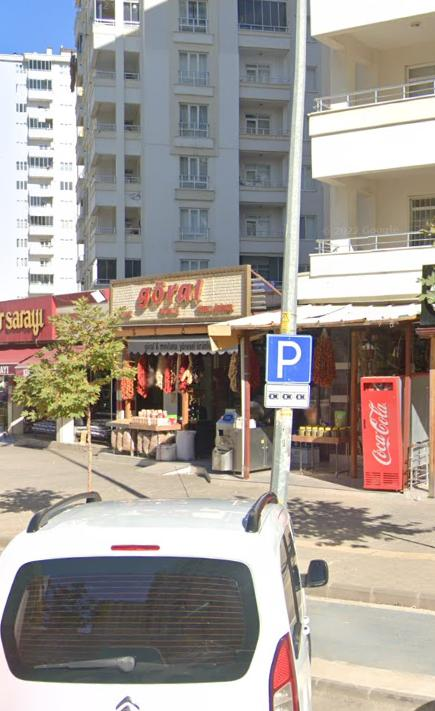park: (269, 340, 308, 383)
